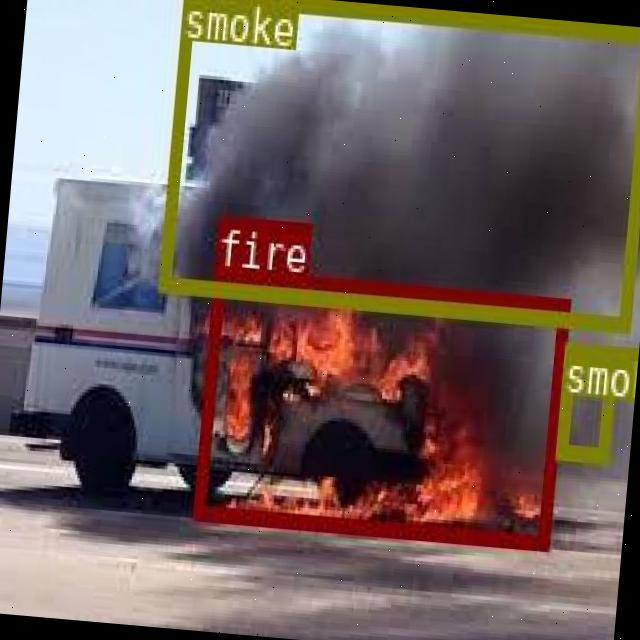fire: (190, 266, 569, 548)
smoke: (158, 0, 640, 331), (555, 342, 616, 461)
